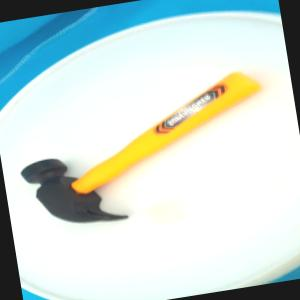martelo: (6, 66, 280, 236)
